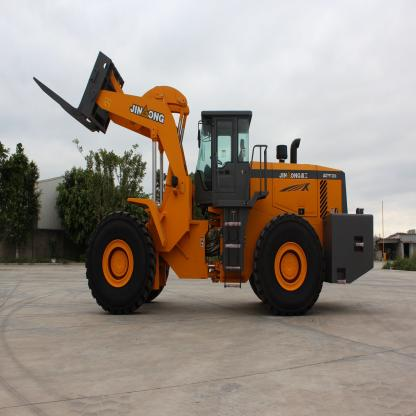bull_dozer/loader/grader: (33, 41, 402, 333)
